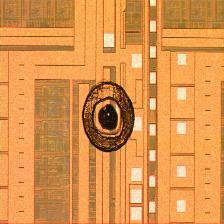PARTICLE: (76, 78, 141, 158)
